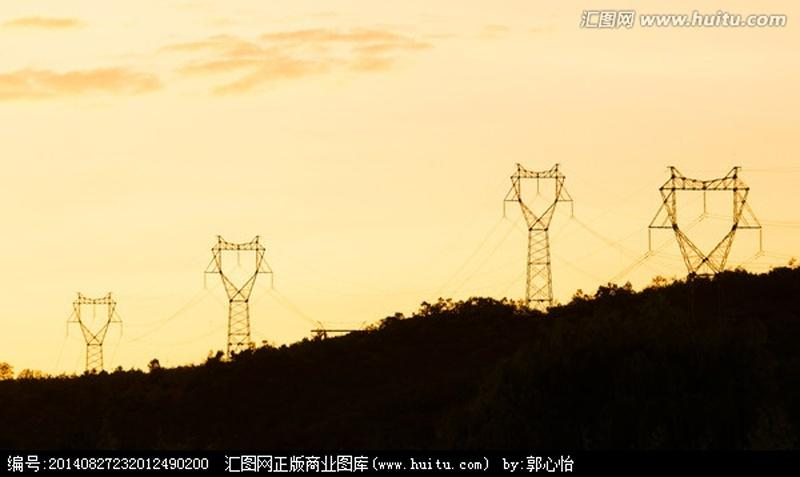power_tower: (642, 160, 766, 290), (493, 153, 574, 311), (190, 226, 281, 365), (59, 276, 134, 378)
